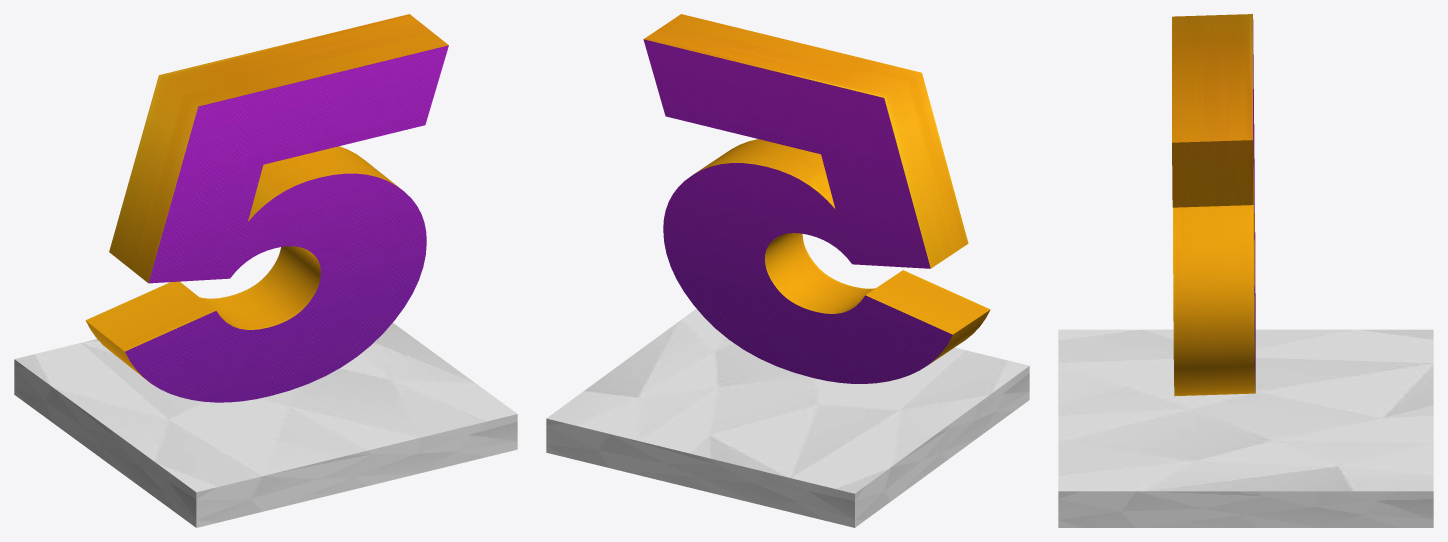
File: CINCO.DAE
3 views of the same model, side by side, from view 1: azimuth 30°, elevation 25°; view 2: azimuth 150°, elevation 25°; view 3: azimuth 270°, elevation 25° (orthographic). The views are drawn at different scales.
Parts seen in each view (by area): view 1: Text001, Box001; view 2: Text001, Box001; view 3: Box001, Text001.
Boxes of the visible parts, x1,y1,x2,y2 form: Text001: (85,14,448,402); Box001: (14,323,517,527); Text001: (643,14,990,383); Box001: (546,308,1029,527); Box001: (1058,329,1433,527); Text001: (1172,14,1255,396).
Size of the model in its own units: 146 by 137 by 153.
3 materials, 3 textured.
